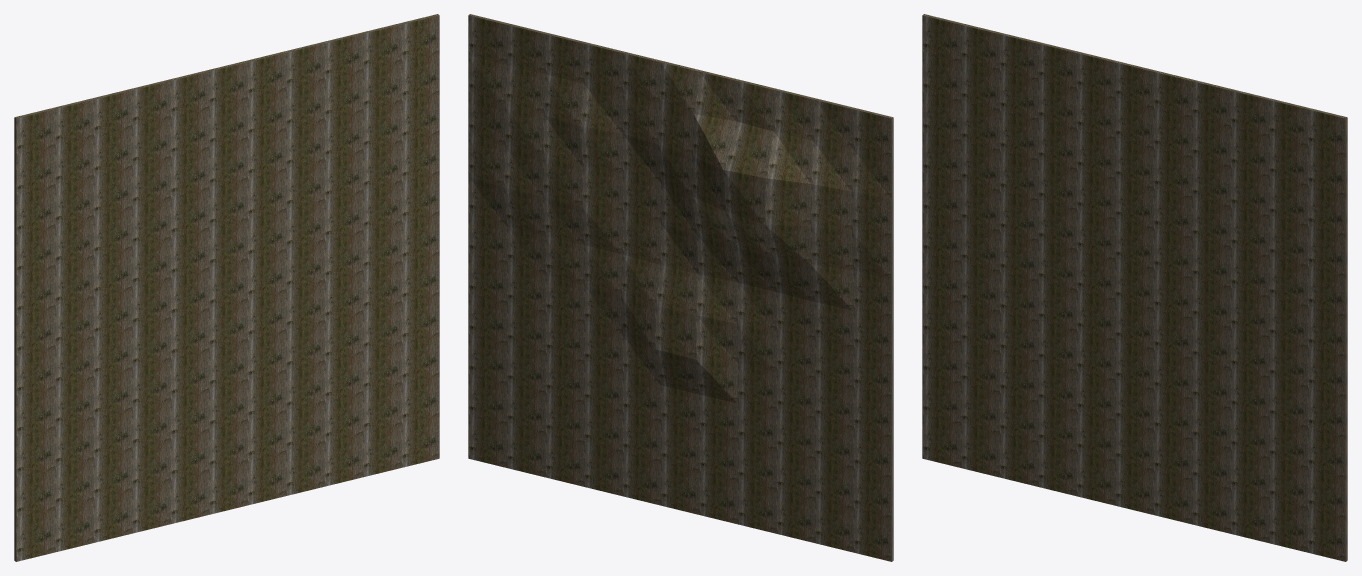
The model's file is snowGround.dae.
The picture shows the model from 3 angles, left to right: view 1: azimuth 30°, elevation 25°; view 2: azimuth 150°, elevation 25°; view 3: azimuth 330°, elevation 25°; orthographic projection.
Parts seen in each view (by area): view 1: Object; view 2: Object; view 3: Object.
Boxes of the visible parts, left/top/right/bottom form: Object: left=14, top=14, right=439, bottom=561; Object: left=468, top=14, right=893, bottom=561; Object: left=922, top=14, right=1347, bottom=561.
Size of the model in its own units: 40 by 2.5 by 40.
